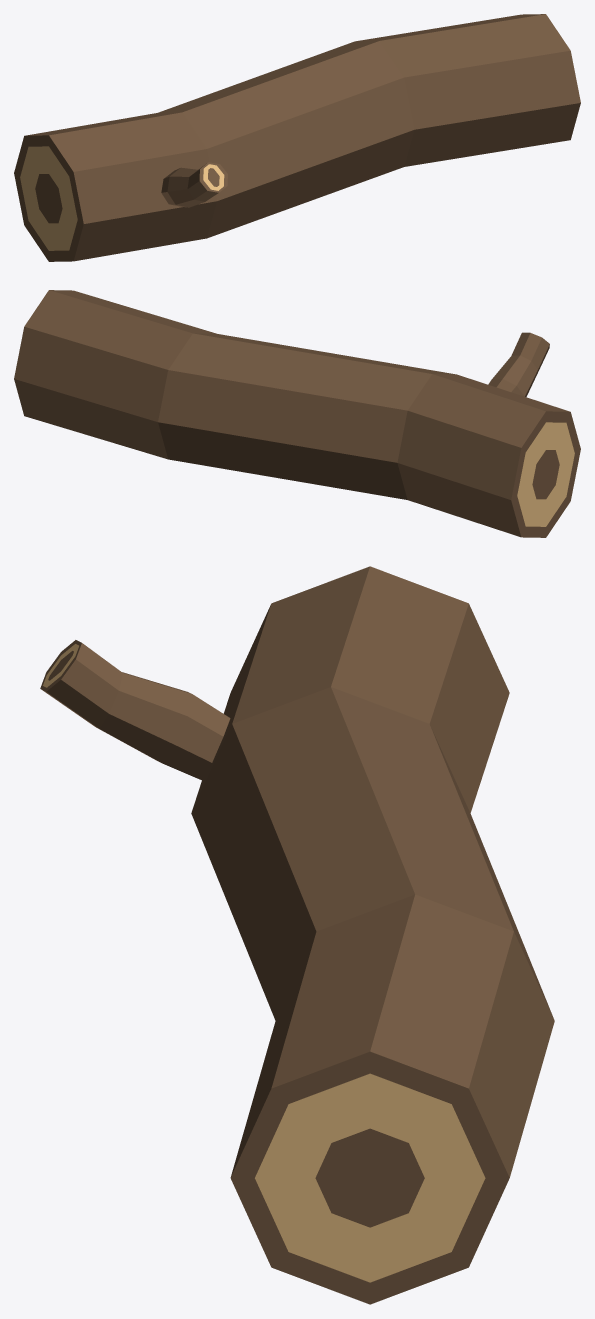
File: log2.fbx
3 views of the same model, one above another, from view 1: azimuth 30°, elevation 25°; view 2: azimuth 150°, elevation 25°; view 3: azimuth 270°, elevation 25° (orthographic). The views are drawn at different scales.
Visible parts, largest first — view 1: Cylinder; view 2: Cylinder; view 3: Cylinder.
Part boxes in pixels (x1,y1,x2,y2): Cylinder: [14, 14, 580, 261]; Cylinder: [14, 290, 580, 537]; Cylinder: [40, 566, 554, 1304].
Bounding box in the file's own units: 5.76 × 1.45 × 2.58.
